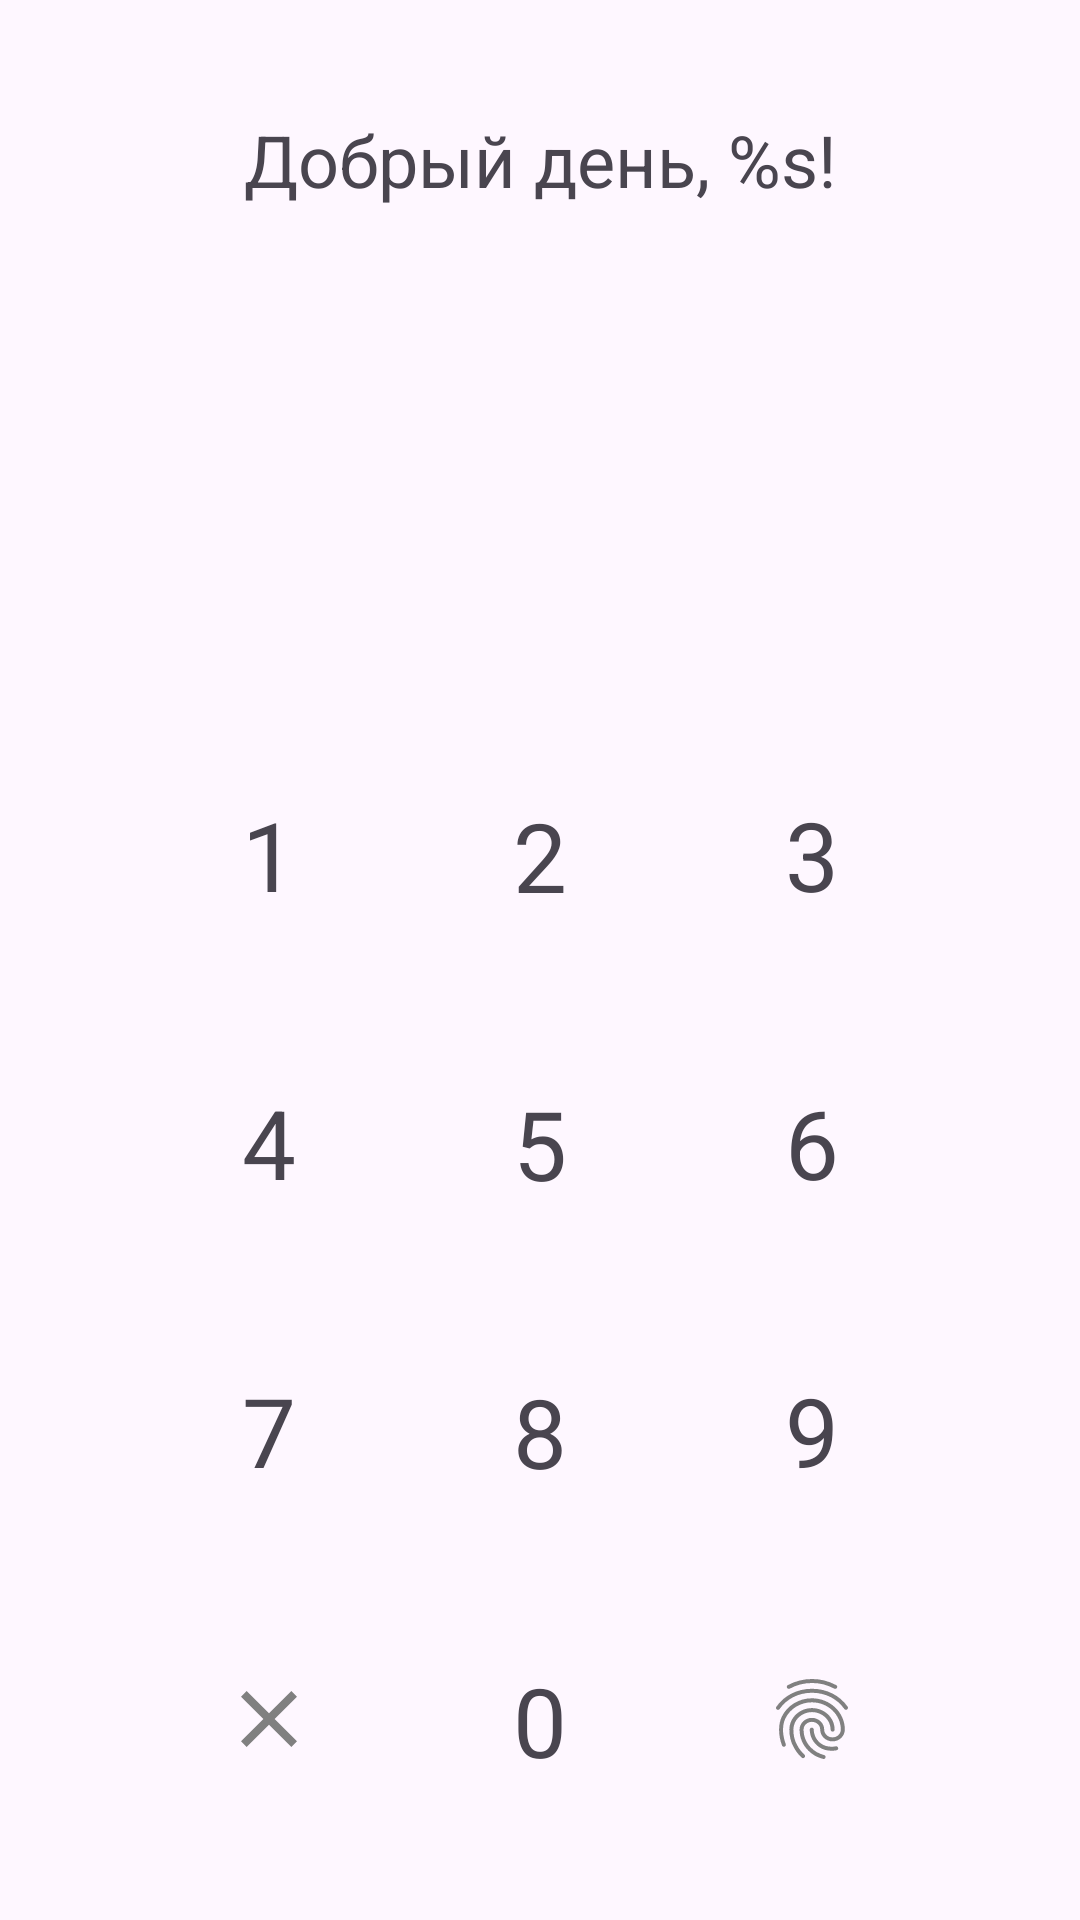

Named icons in this screenshot (1080w x 1920h) and their bounding boxes, (x1, y1, x2, y2):
close: (241, 1691, 297, 1747)
fingerprint: (776, 1679, 848, 1759)
